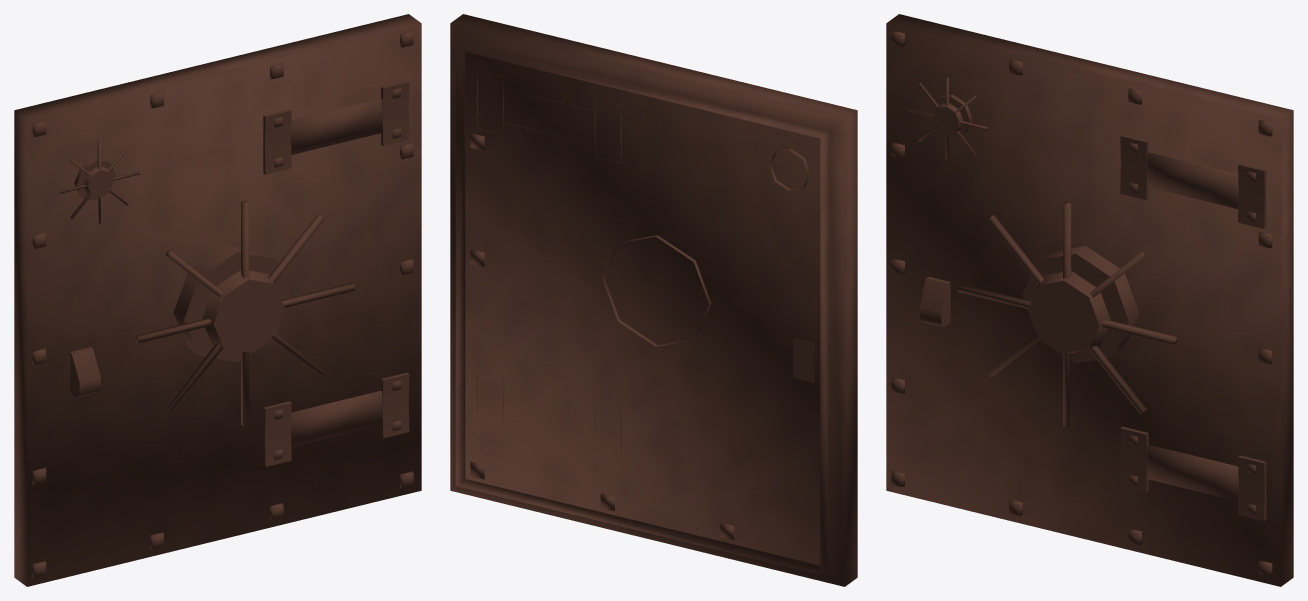
File: IronDoor.fbx
3 renders of one model, left to right at view 1: azimuth 30°, elevation 25°; view 2: azimuth 150°, elevation 25°; view 3: azimuth 330°, elevation 25°, orthographic.
Visible parts, largest first — view 1: Куб.005; view 2: Куб.005; view 3: Куб.005.
Part boxes in pixels (x1,y1,x2,y2): Куб.005: (14, 14, 421, 586); Куб.005: (450, 14, 857, 586); Куб.005: (886, 14, 1293, 586).
Size of the model in its own units: 259 by 293 by 50.56.
